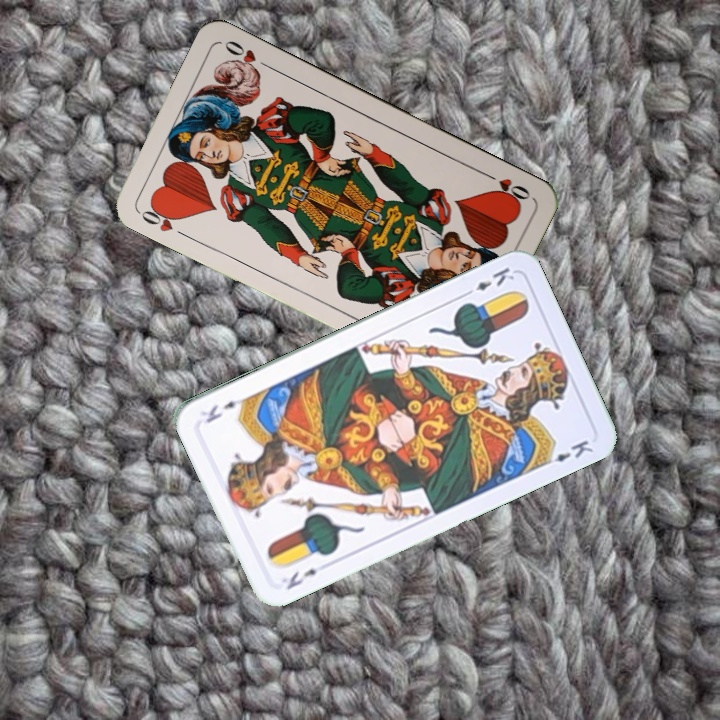EK: (460, 263, 517, 299), (282, 564, 320, 593)
HO: (135, 199, 190, 240), (479, 168, 533, 207)
